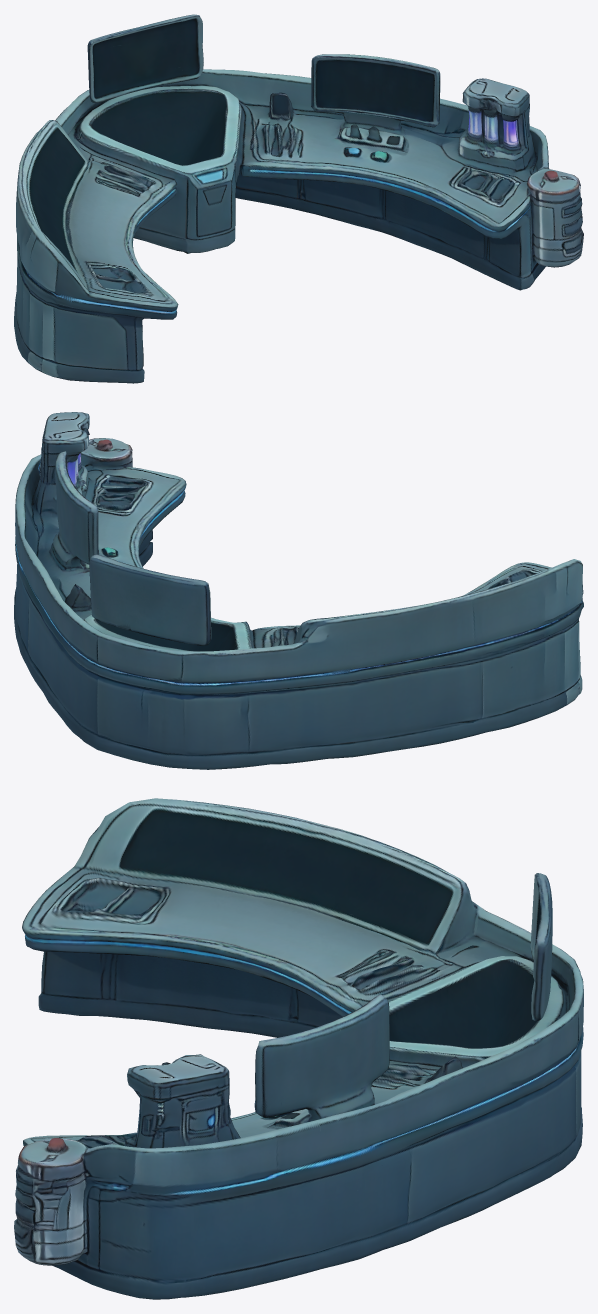
The model's file is base_basic_shaded.glb.
3 renders of one model, top to bottom at view 1: azimuth 30°, elevation 25°; view 2: azimuth 150°, elevation 25°; view 3: azimuth 270°, elevation 25°, orthographic. The views are drawn at different scales.
Visible parts, largest first — view 1: model; view 2: model; view 3: model.
Boxes of the visible parts, x1,y1,x2,y2 form: model: (14,14,583,383); model: (14,412,583,769); model: (14,798,583,1299).
Size of the model in its own units: 1.9 by 0.6063 by 1.37.
1 material, 1 textured.
